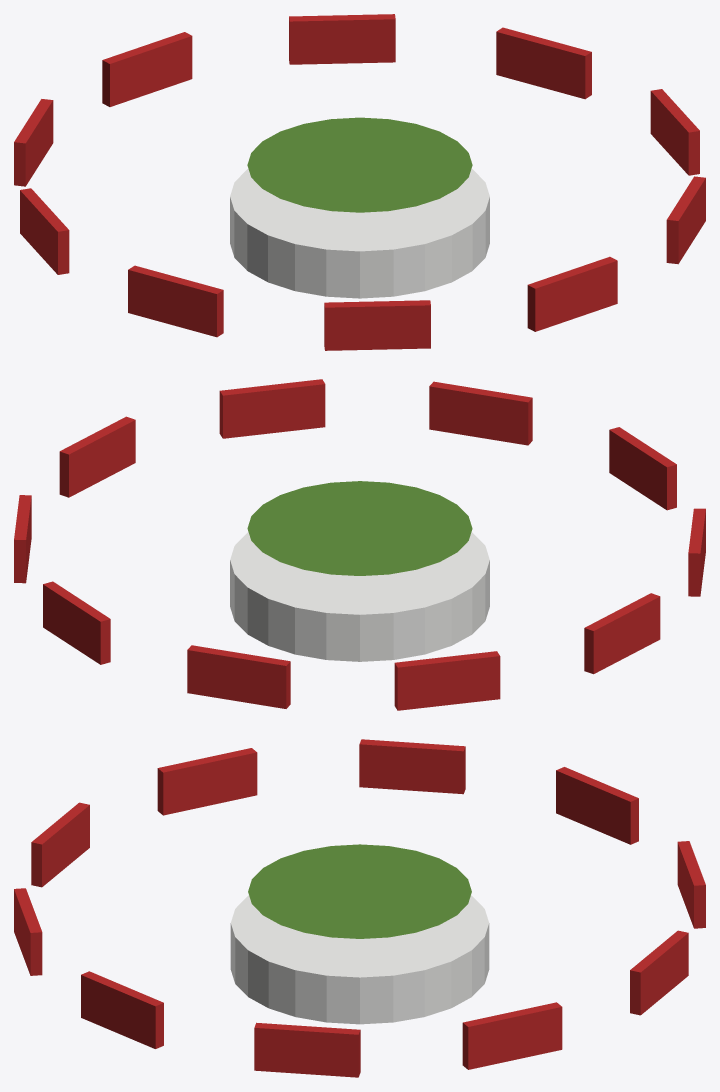
The model's file is rb_redwhite.glb.
The picture shows the model from 3 angles, top to bottom: view 1: azimuth 30°, elevation 25°; view 2: azimuth 150°, elevation 25°; view 3: azimuth 270°, elevation 25°; orthographic projection.
Visible parts, largest first — view 1: rb_redwhite_lod0; view 2: rb_redwhite_lod0; view 3: rb_redwhite_lod0.
Boxes of the visible parts, bbox=[...] form: rb_redwhite_lod0: bbox=[14, 14, 705, 350]; rb_redwhite_lod0: bbox=[14, 379, 705, 710]; rb_redwhite_lod0: bbox=[14, 739, 705, 1077].
Size of what is drawn, in the model's own units: 8.03 by 1.09 by 8.03.
